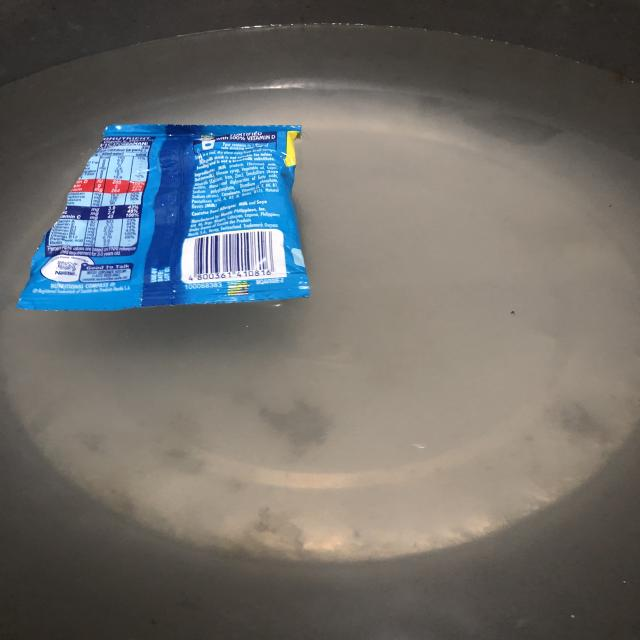Plastic Wrapper: (17, 124, 309, 310)
